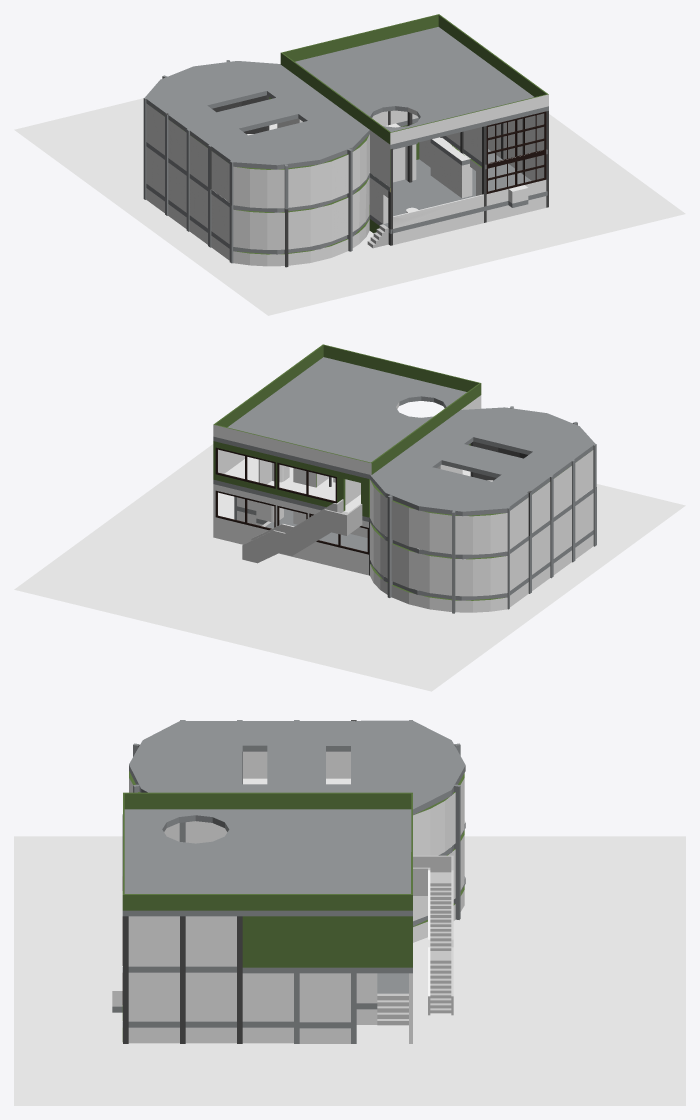
The picture shows the model from 3 angles, top to bottom: view 1: azimuth 30°, elevation 25°; view 2: azimuth 150°, elevation 25°; view 3: azimuth 270°, elevation 25°; orthographic projection. The views are drawn at different scales.
Parts seen in each view (by area): view 1: Mesh139 Model, Mesh56 FORJADO_P2_1_1 skp34F1 Model, Mesh43 CERRAMIE02_1_1 skp34F1 Model, Mesh47 CERRAMIENT_1_1 skp34F1 Model, Mesh17 CERRAMIE01_1_1 skp34F1 Model, Mesh53 FORJADO_P0_1_1 skp34F1 Model, Mesh55 FORJADO_P1_1_1 skp34F1 Model, Mesh114 TABIQUER01_1_1 skp34F1 Model, Mesh46 CERRAMIE02_1_1 skp34F1 Model, Mesh45 CERRAMIE02_1_1 skp34F1 Model, Mesh30 CERRAMIE02_1_1 skp34F1 Model, Mesh5 CERRAMIE01_1_1 skp34F1 Model (+15 smaller); view 2: Mesh139 Model, Mesh56 FORJADO_P2_1_1 skp34F1 Model, Mesh47 CERRAMIENT_1_1 skp34F1 Model, Mesh18 CERRAMIE01_1_1 skp34F1 Model, Mesh42 CERRAMIE02_1_1 skp34F1 Model, Mesh52 ESCALERAS__1_1 skp34F1 Model, Mesh44 CERRAMIE02_1_1 skp34F1 Model, Mesh55 FORJADO_P1_1_1 skp34F1 Model, Mesh12 CERRAMIE01_1_1 skp34F1 Model, Mesh53 FORJADO_P0_1_1 skp34F1 Model, Mesh41 CERRAMIE02_1_1 skp34F1 Model, Mesh15 CERRAMIE01_1_1 skp34F1 Model (+9 smaller); view 3: Mesh139 Model, Mesh56 FORJADO_P2_1_1 skp34F1 Model, Mesh47 CERRAMIENT_1_1 skp34F1 Model, Mesh12 CERRAMIE01_1_1 skp34F1 Model, Mesh52 ESCALERAS__1_1 skp34F1 Model, Mesh6 CERRAMIE01_1_1 skp34F1 Model, Mesh9 CERRAMIE01_1_1 skp34F1 Model, Mesh20 CERRAMIE02_1_1 skp34F1 Model, Mesh23 CERRAMIE02_1_1 skp34F1 Model, Mesh27 CERRAMIE02_1_1 skp34F1 Model, Mesh21 CERRAMIE02_1_1 skp34F1 Model, Mesh53 FORJADO_P0_1_1 skp34F1 Model (+15 smaller).
Boxes of the visible parts, x1=… form: Mesh139 Model: x1=14, y1=98, x2=685, y2=315; Mesh56 FORJADO_P2_1_1 skp34F1 Model: x1=145, y1=27, x2=548, y2=169; Mesh43 CERRAMIE02_1_1 skp34F1 Model: x1=233, y1=177, x2=388, y2=266; Mesh47 CERRAMIENT_1_1 skp34F1 Model: x1=280, y1=14, x2=548, y2=144; Mesh17 CERRAMIE01_1_1 skp34F1 Model: x1=233, y1=134, x2=369, y2=208; Mesh53 FORJADO_P0_1_1 skp34F1 Model: x1=146, y1=149, x2=547, y2=254; Mesh55 FORJADO_P1_1_1 skp34F1 Model: x1=146, y1=118, x2=547, y2=212; Mesh114 TABIQUER01_1_1 skp34F1 Model: x1=430, y1=143, x2=469, y2=197; Mesh46 CERRAMIE02_1_1 skp34F1 Model: x1=393, y1=194, x2=483, y2=228; Mesh45 CERRAMIE02_1_1 skp34F1 Model: x1=393, y1=211, x2=483, y2=245; Mesh30 CERRAMIE02_1_1 skp34F1 Model: x1=486, y1=180, x2=546, y2=205; Mesh5 CERRAMIE01_1_1 skp34F1 Model: x1=370, y1=134, x2=390, y2=187; Mesh139 Model: x1=14, y1=444, x2=685, y2=691; Mesh56 FORJADO_P2_1_1 skp34F1 Model: x1=213, y1=357, x2=595, y2=516; Mesh47 CERRAMIENT_1_1 skp34F1 Model: x1=213, y1=344, x2=481, y2=474; Mesh18 CERRAMIE01_1_1 skp34F1 Model: x1=370, y1=480, x2=507, y2=554; Mesh42 CERRAMIE02_1_1 skp34F1 Model: x1=370, y1=523, x2=507, y2=596; Mesh52 ESCALERAS__1_1 skp34F1 Model: x1=242, y1=499, x2=362, y2=563; Mesh44 CERRAMIE02_1_1 skp34F1 Model: x1=213, y1=484, x2=368, y2=575; Mesh55 FORJADO_P1_1_1 skp34F1 Model: x1=213, y1=457, x2=593, y2=559; Mesh12 CERRAMIE01_1_1 skp34F1 Model: x1=213, y1=441, x2=369, y2=517; Mesh53 FORJADO_P0_1_1 skp34F1 Model: x1=234, y1=505, x2=593, y2=600; Mesh41 CERRAMIE02_1_1 skp34F1 Model: x1=370, y1=564, x2=507, y2=612; Mesh15 CERRAMIE01_1_1 skp34F1 Model: x1=553, y1=465, x2=571, y2=517; Mesh139 Model: x1=14, y1=836, x2=685, y2=1105; Mesh56 FORJADO_P2_1_1 skp34F1 Model: x1=122, y1=720, x2=465, y2=916; Mesh47 CERRAMIENT_1_1 skp34F1 Model: x1=122, y1=792, x2=412, y2=910; Mesh12 CERRAMIE01_1_1 skp34F1 Model: x1=242, y1=916, x2=412, y2=967; Mesh52 ESCALERAS__1_1 skp34F1 Model: x1=413, y1=855, x2=453, y2=1015; Mesh6 CERRAMIE01_1_1 skp34F1 Model: x1=128, y1=916, x2=179, y2=966; Mesh9 CERRAMIE01_1_1 skp34F1 Model: x1=185, y1=916, x2=236, y2=966; Mesh20 CERRAMIE02_1_1 skp34F1 Model: x1=299, y1=973, x2=350, y2=1022; Mesh23 CERRAMIE02_1_1 skp34F1 Model: x1=185, y1=972, x2=236, y2=1021; Mesh27 CERRAMIE02_1_1 skp34F1 Model: x1=128, y1=972, x2=179, y2=1021; Mesh21 CERRAMIE02_1_1 skp34F1 Model: x1=242, y1=973, x2=293, y2=1021; Mesh53 FORJADO_P0_1_1 skp34F1 Model: x1=112, y1=876, x2=465, y2=1028.
Size of the model in its own units: 35.47 by 9.16 by 37.39.
